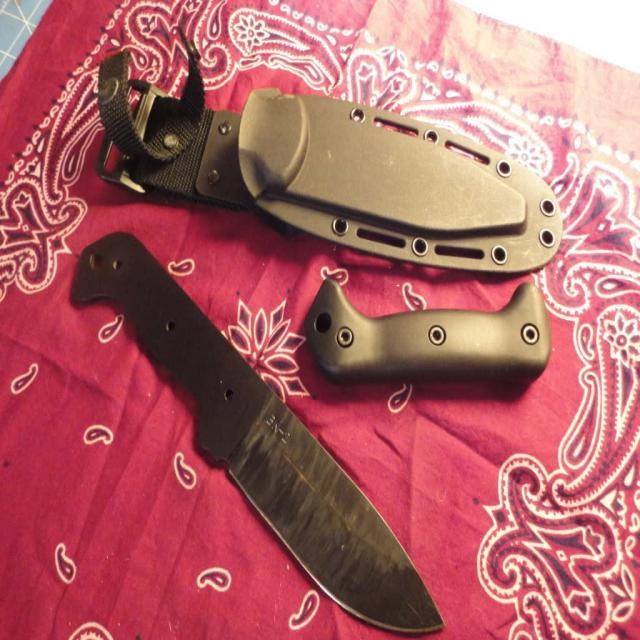Knife: (72, 232, 442, 633)
